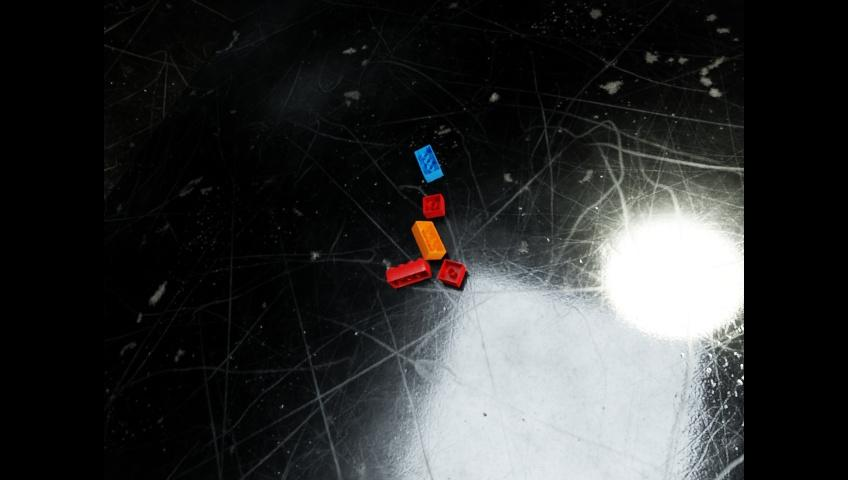2x2_red: (437, 259, 468, 288), (423, 193, 443, 218)
4x2_blue: (414, 144, 442, 182)
4x2_orange: (411, 222, 444, 259)
4x2_red: (386, 257, 430, 287)
